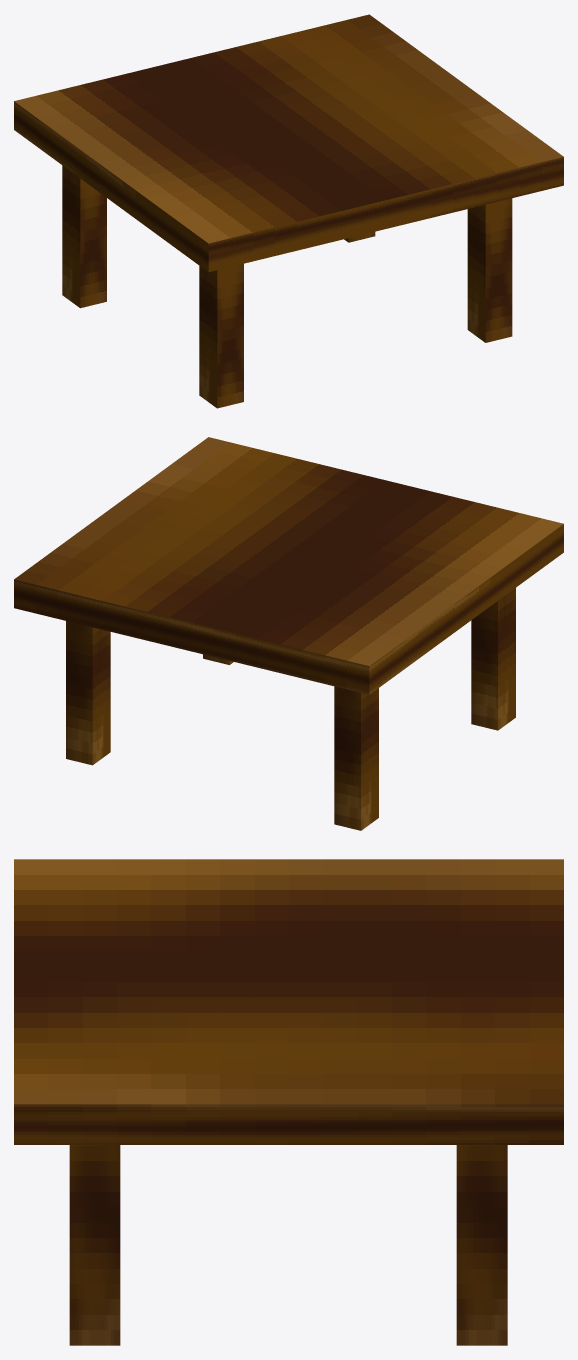
Rendered from mesa.glb.
3 views of the same model, one above another, from view 1: azimuth 30°, elevation 25°; view 2: azimuth 150°, elevation 25°; view 3: azimuth 270°, elevation 25° (orthographic). The views are drawn at different scales.
Visible parts, largest first — view 1: mesa-col; view 2: mesa-col; view 3: mesa-col.
Part boxes in pixels (x1,y1,x2,y2): mesa-col: (14,14,563,408); mesa-col: (14,437,563,830); mesa-col: (14,859,563,1345).
Bounding box in the file's own units: 1.92 × 0.9634 × 1.82.
1 material, 1 textured.
